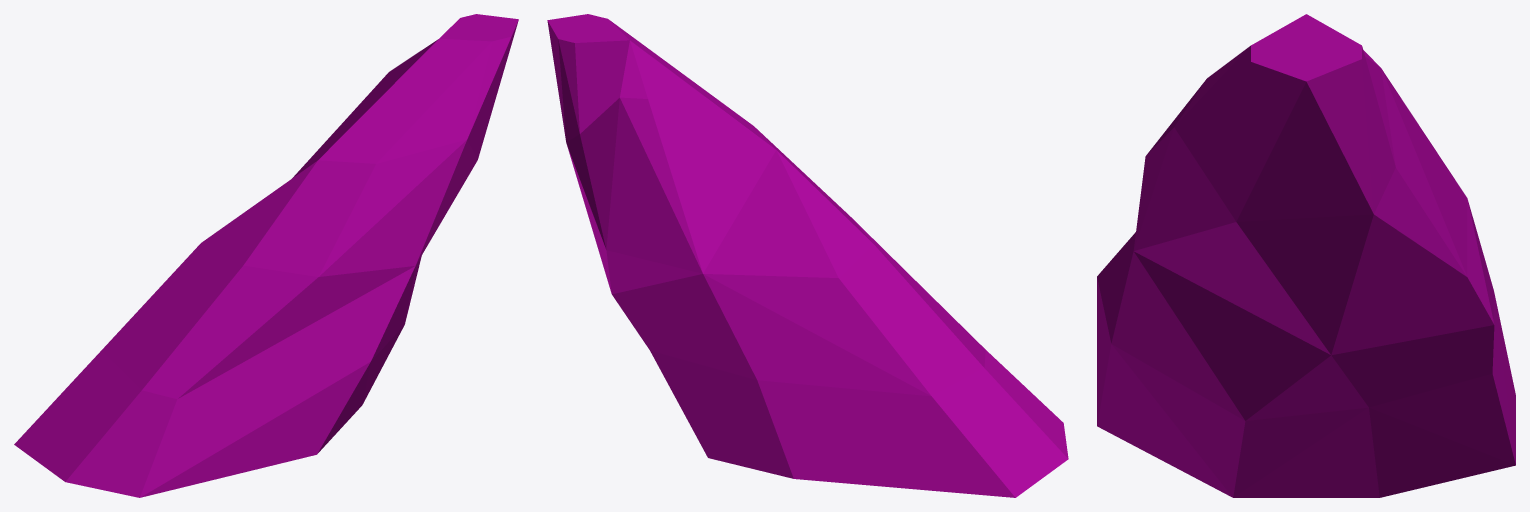
The model's file is Collider_Big_Rock_002.fbx.
3 views of the same model, side by side, from view 1: azimuth 30°, elevation 25°; view 2: azimuth 150°, elevation 25°; view 3: azimuth 270°, elevation 25° (orthographic). The views are drawn at different scales.
Visible parts, largest first — view 1: Collider_Big_Rock_002; view 2: Collider_Big_Rock_002; view 3: Collider_Big_Rock_002.
Part boxes in pixels (bbox=[...]): Collider_Big_Rock_002: bbox=[14, 14, 518, 497]; Collider_Big_Rock_002: bbox=[547, 14, 1068, 497]; Collider_Big_Rock_002: bbox=[1097, 14, 1515, 497].
Bounding box in the file's own units: 14.66 × 9.56 × 6.41.
